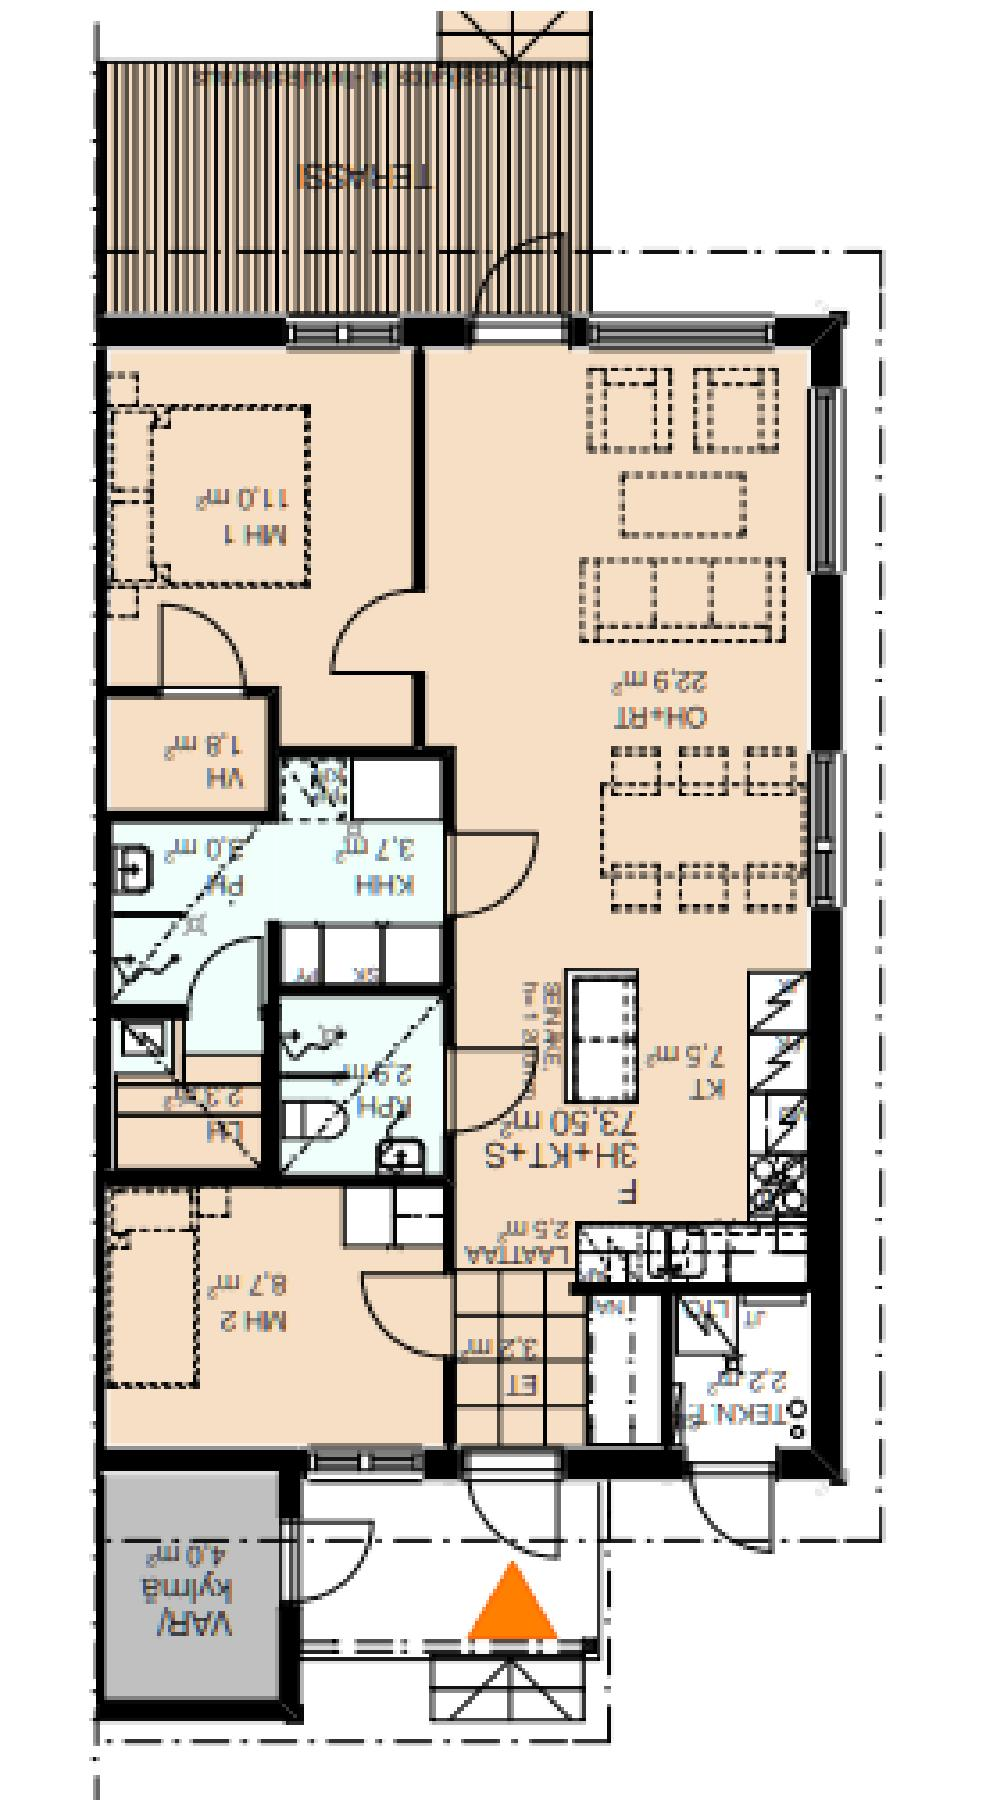door: (461, 1455, 569, 1572), (151, 594, 257, 706), (687, 1457, 790, 1571), (472, 235, 577, 335), (324, 587, 429, 685), (350, 1274, 461, 1363), (440, 1047, 551, 1135), (272, 1528, 389, 1605), (440, 837, 540, 922), (177, 933, 274, 1015)
window: (811, 392, 844, 577), (601, 320, 775, 350), (812, 759, 844, 912), (283, 316, 403, 350)
zone: (418, 348, 790, 1279), (110, 761, 448, 1168), (104, 356, 414, 750), (107, 68, 594, 311), (104, 1187, 455, 1463), (464, 1276, 822, 1452), (109, 1481, 277, 1698), (104, 702, 266, 813)
